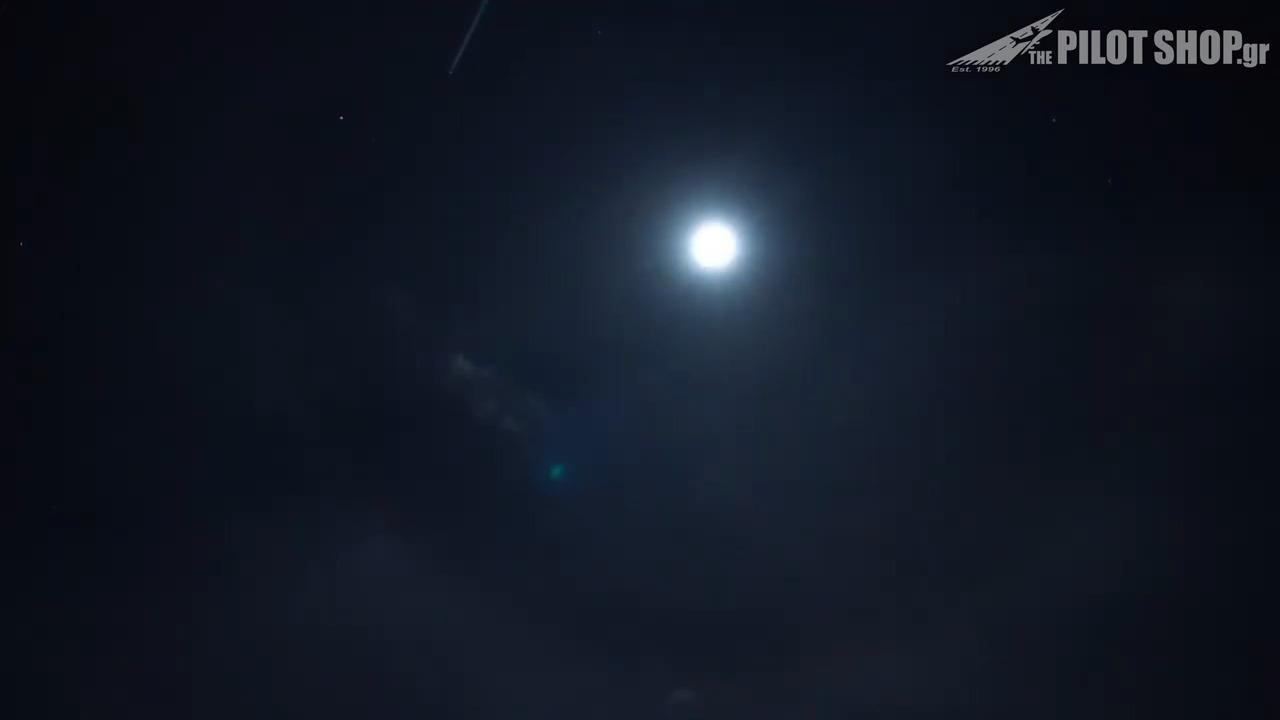Plane: (394, 0, 545, 83)
